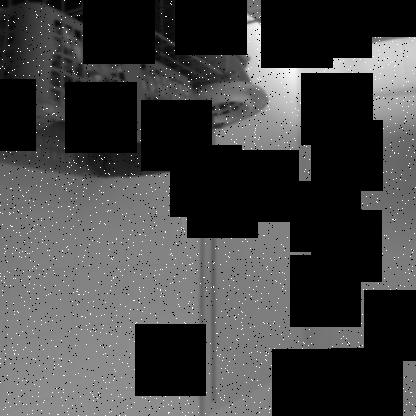Porte: (196, 1, 308, 415)
